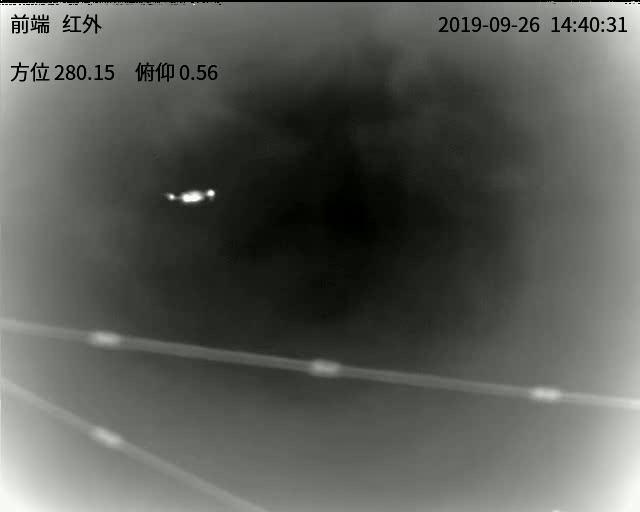DRONE: (165, 188, 215, 204)
